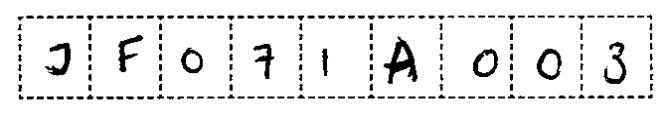0: (463, 44, 504, 85), (174, 42, 210, 82), (530, 44, 566, 84)
1: (310, 43, 339, 80)
3: (598, 37, 632, 90)
7: (250, 40, 279, 85)
A: (379, 33, 424, 89)
F: (113, 31, 148, 78)
J: (42, 35, 78, 80)
